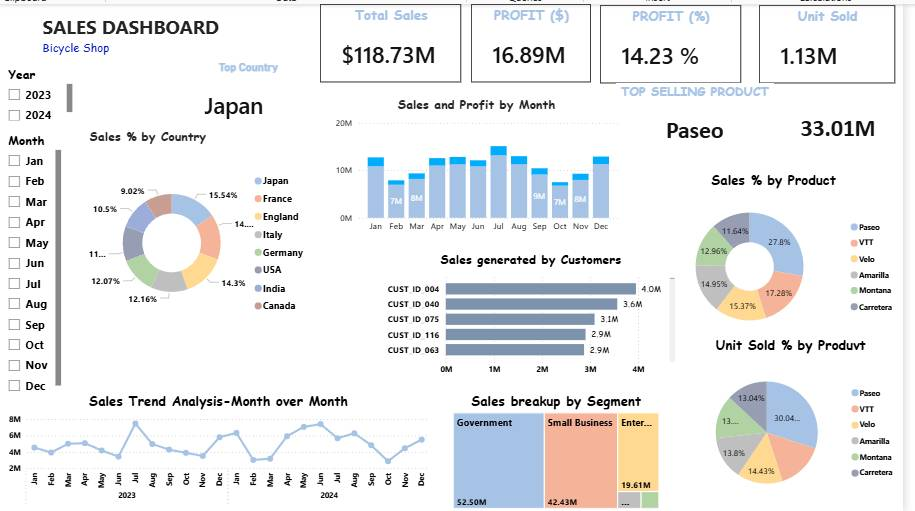

Layout of this report page (visuals, bound fields, positions):
{"tool":"powerbi","page":{"name":"Page 1","canvas":[1280,720],"ordinal":0},"visuals":[{"type":"cardVisual","title":"Total Sales","fields":{"Data":["Sum(Sales Data.Sales)"]},"box":[455,0,200.2,110.9],"z":0},{"type":"cardVisual","title":"PROFIT ($)","fields":{"Data":["Sum(Sales Data.Profit)"]},"box":[669.6,0,169.9,110.9],"z":1000},{"type":"cardVisual","title":"PROFIT (%)","fields":{"Data":["Sales Data.PROFIT (%)"]},"box":[852.5,1.4,200.2,110.9],"z":2000},{"type":"cardVisual","title":"Unit Sold","fields":{"Data":["Sum(Sales Data.Units Sold)"]},"box":[1077.1,1.4,193,110.9],"z":3000},{"type":"cardVisual","title":"TOP SELLING PRODUCT","fields":{"Data":["Min(Sales Data.Product_Name)"]},"box":[874.5,112,223.9,107.7],"z":4000},{"type":"cardVisual","title":"TOP SELLING PRODUCT","fields":{"Data":["Sum(Sales Data.Sales)"]},"box":[1098.4,130.4,181.4,89.3],"z":5000},{"type":"donutChart","title":"Sales % by Product","fields":{"Category":["Sales Data.Product_Name"],"Y":["Sum(Sales Data.Sales)"]},"box":[915.8,234.7,364.3,247.7],"z":6000},{"type":"pieChart","title":"Unit Sold % by Produvt","fields":{"Category":["Sales Data.Product_Name"],"Y":["Sum(Sales Data.Units Sold)"]},"box":[963.4,469.4,316.8,250.6],"z":7000},{"type":"treemap","title":"Sales breakup by Segment","fields":{"Group":["Sales Data.Segment"],"Values":["Sum(Sales Data.Sales)"]},"box":[639.4,548.6,301,171.4],"z":8000},{"type":"lineChart","title":"Sales Trend Analysis-Month over Month","fields":{"Y":["Sum(Sales Data.Sales)"],"Category":["Sales Data.Date.Variation.Date Hierarchy.Year","Sales Data.Month Name"]},"box":[8.6,548.3,605.2,170.7],"z":9000},{"type":"slicer","fields":{"Values":["Sales Data.Year"]},"box":[0,82.1,109.4,87.8],"z":10000},{"type":"slicer","fields":{"Values":["Sales Data.Month Name"]},"box":[0,176.3,93.4,381.6],"z":11000},{"type":"textbox","box":[56.2,8.6,321.1,102.2],"z":13000},{"type":"clusteredBarChart","title":"Sales generated by Customers","fields":{"Y":["Sum(Sales Data.Sales)"],"Category":["Sales Data.Customer_ID"]},"box":[544.3,349.9,419,185.8],"z":14000},{"type":"columnChart","title":"Sales and Profit by Month","fields":{"Y":["Sum(Sales Data.Sales)","Sum(Sales Data.Profit)"],"Category":["Sales Data.Month Name"]},"box":[472,130.4,409.6,202.7],"z":15000},{"type":"donutChart","title":" Sales % by Country","fields":{"Category":["Sales Data.Country"],"Y":["Sum(Sales Data.Sales)"]},"box":[123.3,175.7,321.7,301.9],"z":16000},{"type":"cardVisual","title":"Top Country","fields":{"Data":["Min(Sales Data.Country)"]},"box":[262.2,79.4,182.8,102],"z":17000}]}

Visuals, with their boxes in screenshot pixels (x1, y1, x2, y2), scaled from the page's 1280x720 canvas onto the 915x511 screenshot:
"Total Sales" cardVisual: bbox=[325, 0, 468, 79]
"PROFIT ($)" cardVisual: bbox=[479, 0, 600, 79]
"PROFIT (%)" cardVisual: bbox=[609, 1, 753, 80]
"Unit Sold" cardVisual: bbox=[770, 1, 908, 80]
"TOP SELLING PRODUCT" cardVisual: bbox=[625, 79, 785, 156]
"TOP SELLING PRODUCT" cardVisual: bbox=[785, 93, 914, 156]
"Sales % by Product" donutChart: bbox=[655, 167, 914, 342]
"Unit Sold % by Produvt" pieChart: bbox=[689, 333, 914, 510]
"Sales breakup by Segment" treemap: bbox=[457, 389, 672, 510]
"Sales Trend Analysis-Month over Month" lineChart: bbox=[6, 389, 439, 510]
slicer - Sales Data.Year: bbox=[0, 58, 78, 121]
slicer - Sales Data.Month Name: bbox=[0, 125, 67, 396]
textbox: bbox=[40, 6, 270, 79]
"Sales generated by Customers" clusteredBarChart: bbox=[389, 248, 689, 380]
"Sales and Profit by Month" columnChart: bbox=[337, 93, 630, 236]
" Sales % by Country" donutChart: bbox=[88, 125, 318, 339]
"Top Country" cardVisual: bbox=[187, 56, 318, 129]
